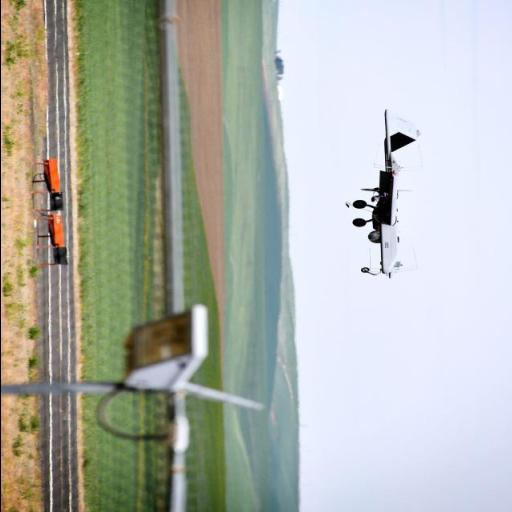uav: (338, 107, 432, 282)
